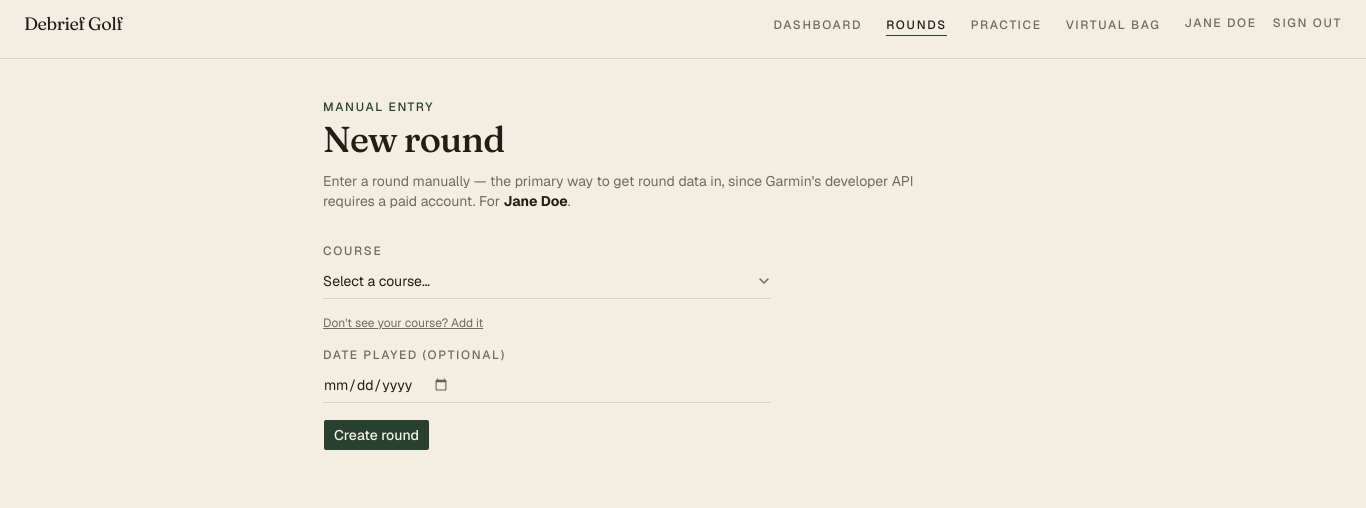
Test: NewRoundPage › shows a validation error when no course is chosen
Click the button "Create round": (376, 435) [323,419,430,451]
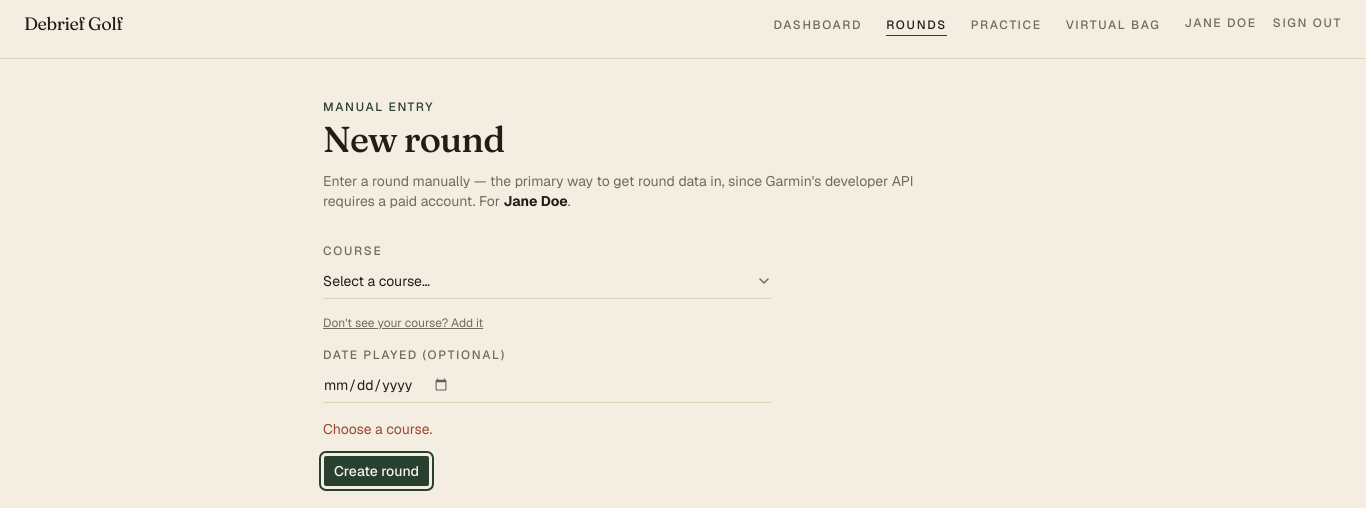
expect the message shows "course": met, box [323,420,432,438]
